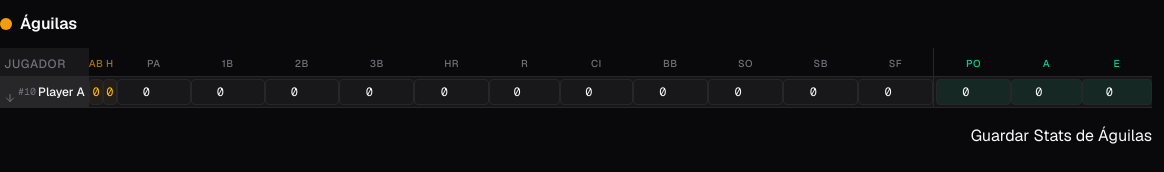
Test: StatEntryTable › auto-calculates AB from PA - BB - SF
Replace the text in the 1st number field named "p1_pa" with "5". click: x=154, y=92
box: [116, 79, 191, 105]
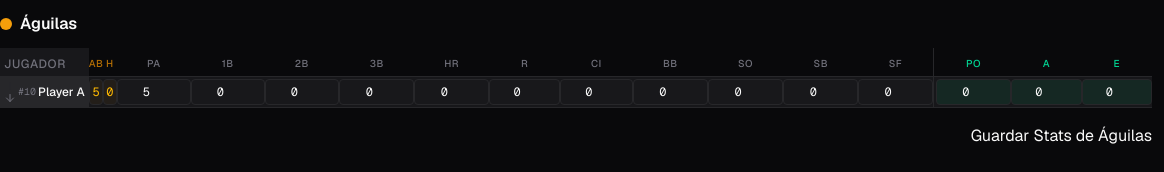
Replace the text in the 8th number field named "p1_bb" with "1". click: x=670, y=92
box: [633, 79, 708, 105]
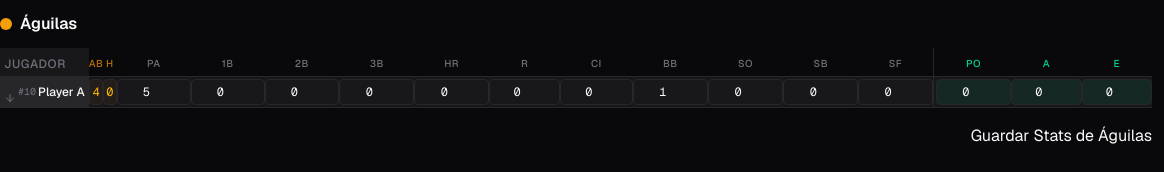
Replace the text in the 11th number field named "p1_sf" with "1". click: x=896, y=92
box: [858, 79, 933, 105]
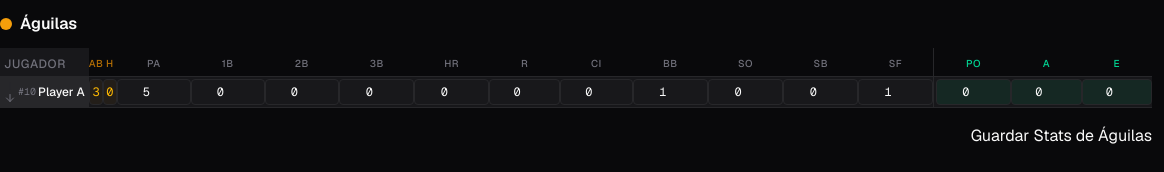
Expected: the cell named "p1_ab" holds "3", [89, 76, 103, 108]
Expected: the text titled "AB = PA - BB - SF" reads "3", [92, 84, 100, 100]
